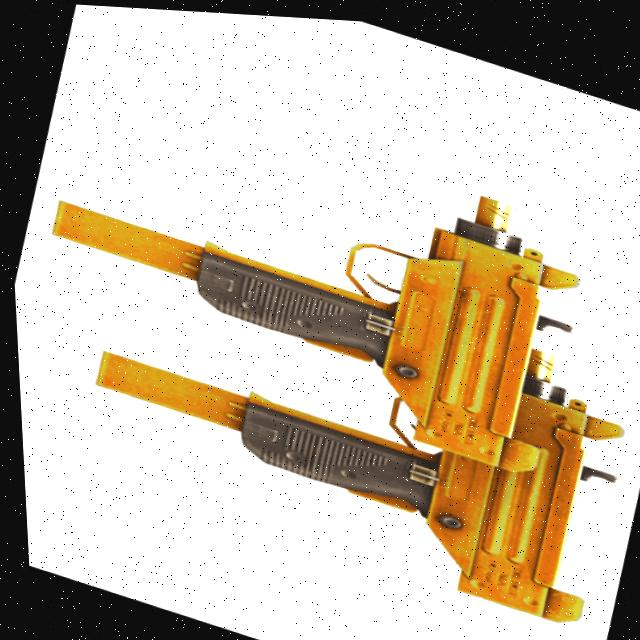firearm: (59, 213, 640, 628), (19, 64, 598, 476)
